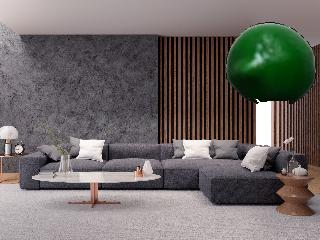lime: (227, 23, 315, 105)
